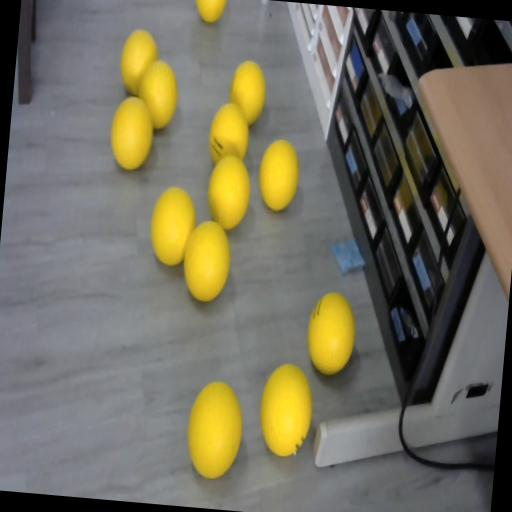FUEL: (183, 377, 247, 480), (256, 360, 316, 457), (304, 288, 359, 376), (180, 218, 234, 302), (148, 184, 200, 267), (204, 153, 253, 232), (108, 94, 156, 172), (255, 137, 301, 212), (118, 28, 160, 98), (227, 59, 269, 126), (193, 0, 226, 24)
